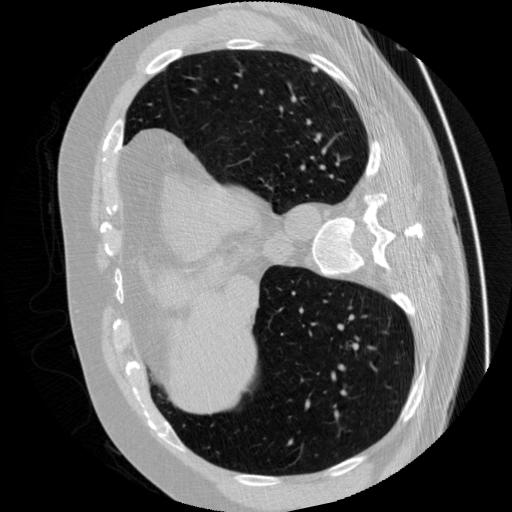nodule: (308, 64, 321, 77)
